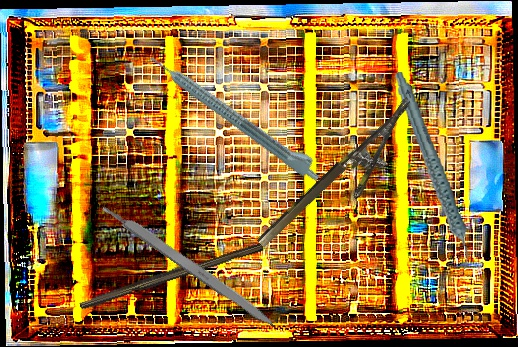Handpiece: (146, 44, 328, 186), (392, 66, 473, 275)
Needle Holder: (254, 96, 435, 269)
Scalpel Handle: (100, 199, 280, 331), (77, 237, 265, 313)
